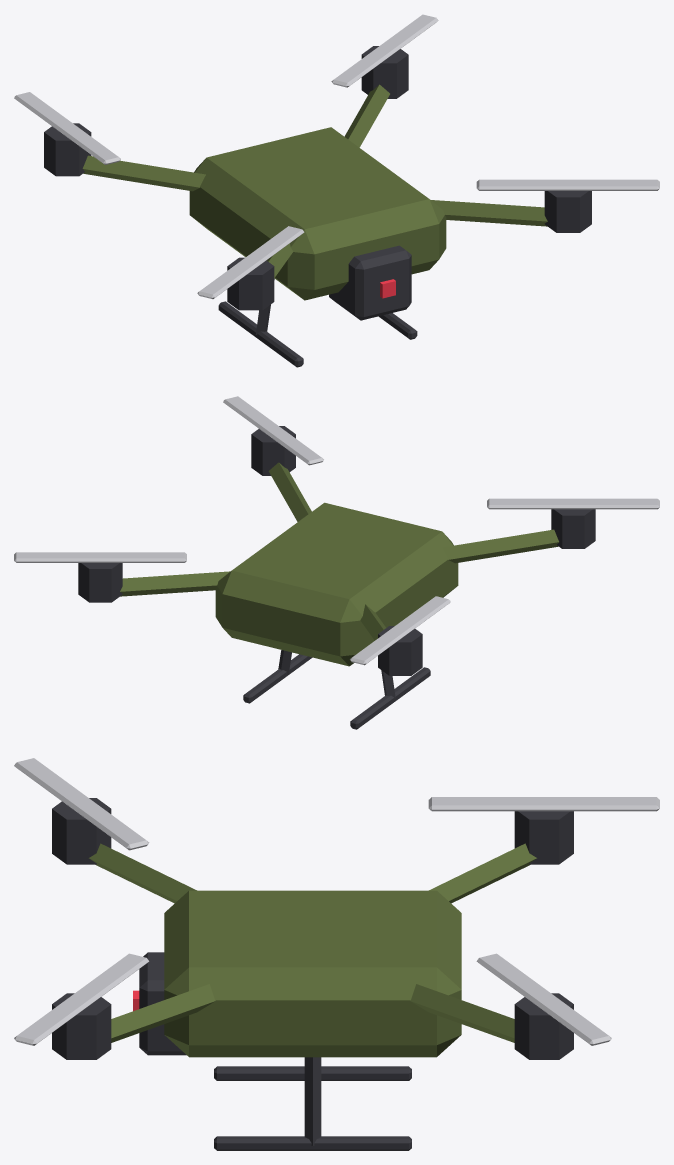
The model's file is ArmyDrone.fbx.
The picture shows the model from 3 angles, top to bottom: view 1: azimuth 30°, elevation 25°; view 2: azimuth 150°, elevation 25°; view 3: azimuth 270°, elevation 25°; orthographic projection. The views are drawn at different scales.
Parts seen in each view (by area): view 1: ArmyDrone, ArmyDrone_Rotor3, ArmyDrone_Rotor4, ArmyDrone_Rotor1, ArmyDrone_Rotor2; view 2: ArmyDrone, ArmyDrone_Rotor4, ArmyDrone_Rotor1, ArmyDrone_Rotor2, ArmyDrone_Rotor3; view 3: ArmyDrone, ArmyDrone_Rotor2, ArmyDrone_Rotor4, ArmyDrone_Rotor1, ArmyDrone_Rotor3.
Part boxes in pixels (box(x1,y1,x2,y2)): ArmyDrone: box(44, 46, 591, 367); ArmyDrone_Rotor3: box(476, 179, 659, 190); ArmyDrone_Rotor4: box(197, 226, 304, 299); ArmyDrone_Rotor1: box(331, 14, 438, 87); ArmyDrone_Rotor2: box(14, 92, 120, 164); ArmyDrone: box(78, 426, 595, 729); ArmyDrone_Rotor4: box(487, 498, 659, 509); ArmyDrone_Rotor1: box(14, 552, 186, 562); ArmyDrone_Rotor2: box(350, 596, 450, 665); ArmyDrone_Rotor3: box(223, 396, 323, 465); ArmyDrone: box(52, 798, 573, 1150); ArmyDrone_Rotor2: box(428, 797, 659, 811); ArmyDrone_Rotor4: box(14, 758, 149, 850); ArmyDrone_Rotor1: box(476, 953, 611, 1045); ArmyDrone_Rotor3: box(14, 953, 149, 1045).
Size of the model in its own units: 4.07 by 1.44 by 3.91.
1 material, 1 textured.
